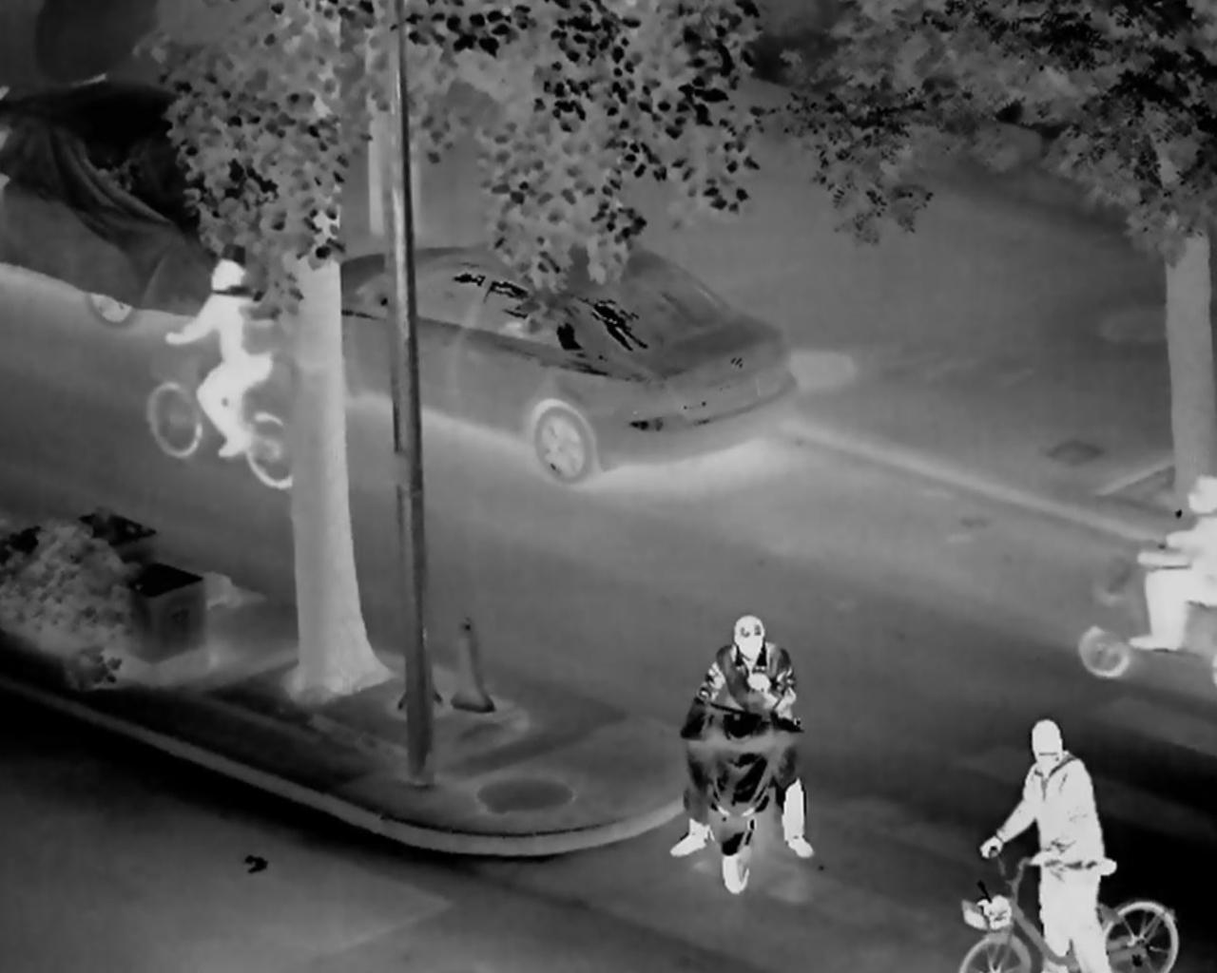person: (663, 585, 842, 890), (985, 707, 1119, 973), (163, 242, 279, 480), (1134, 460, 1217, 667)
